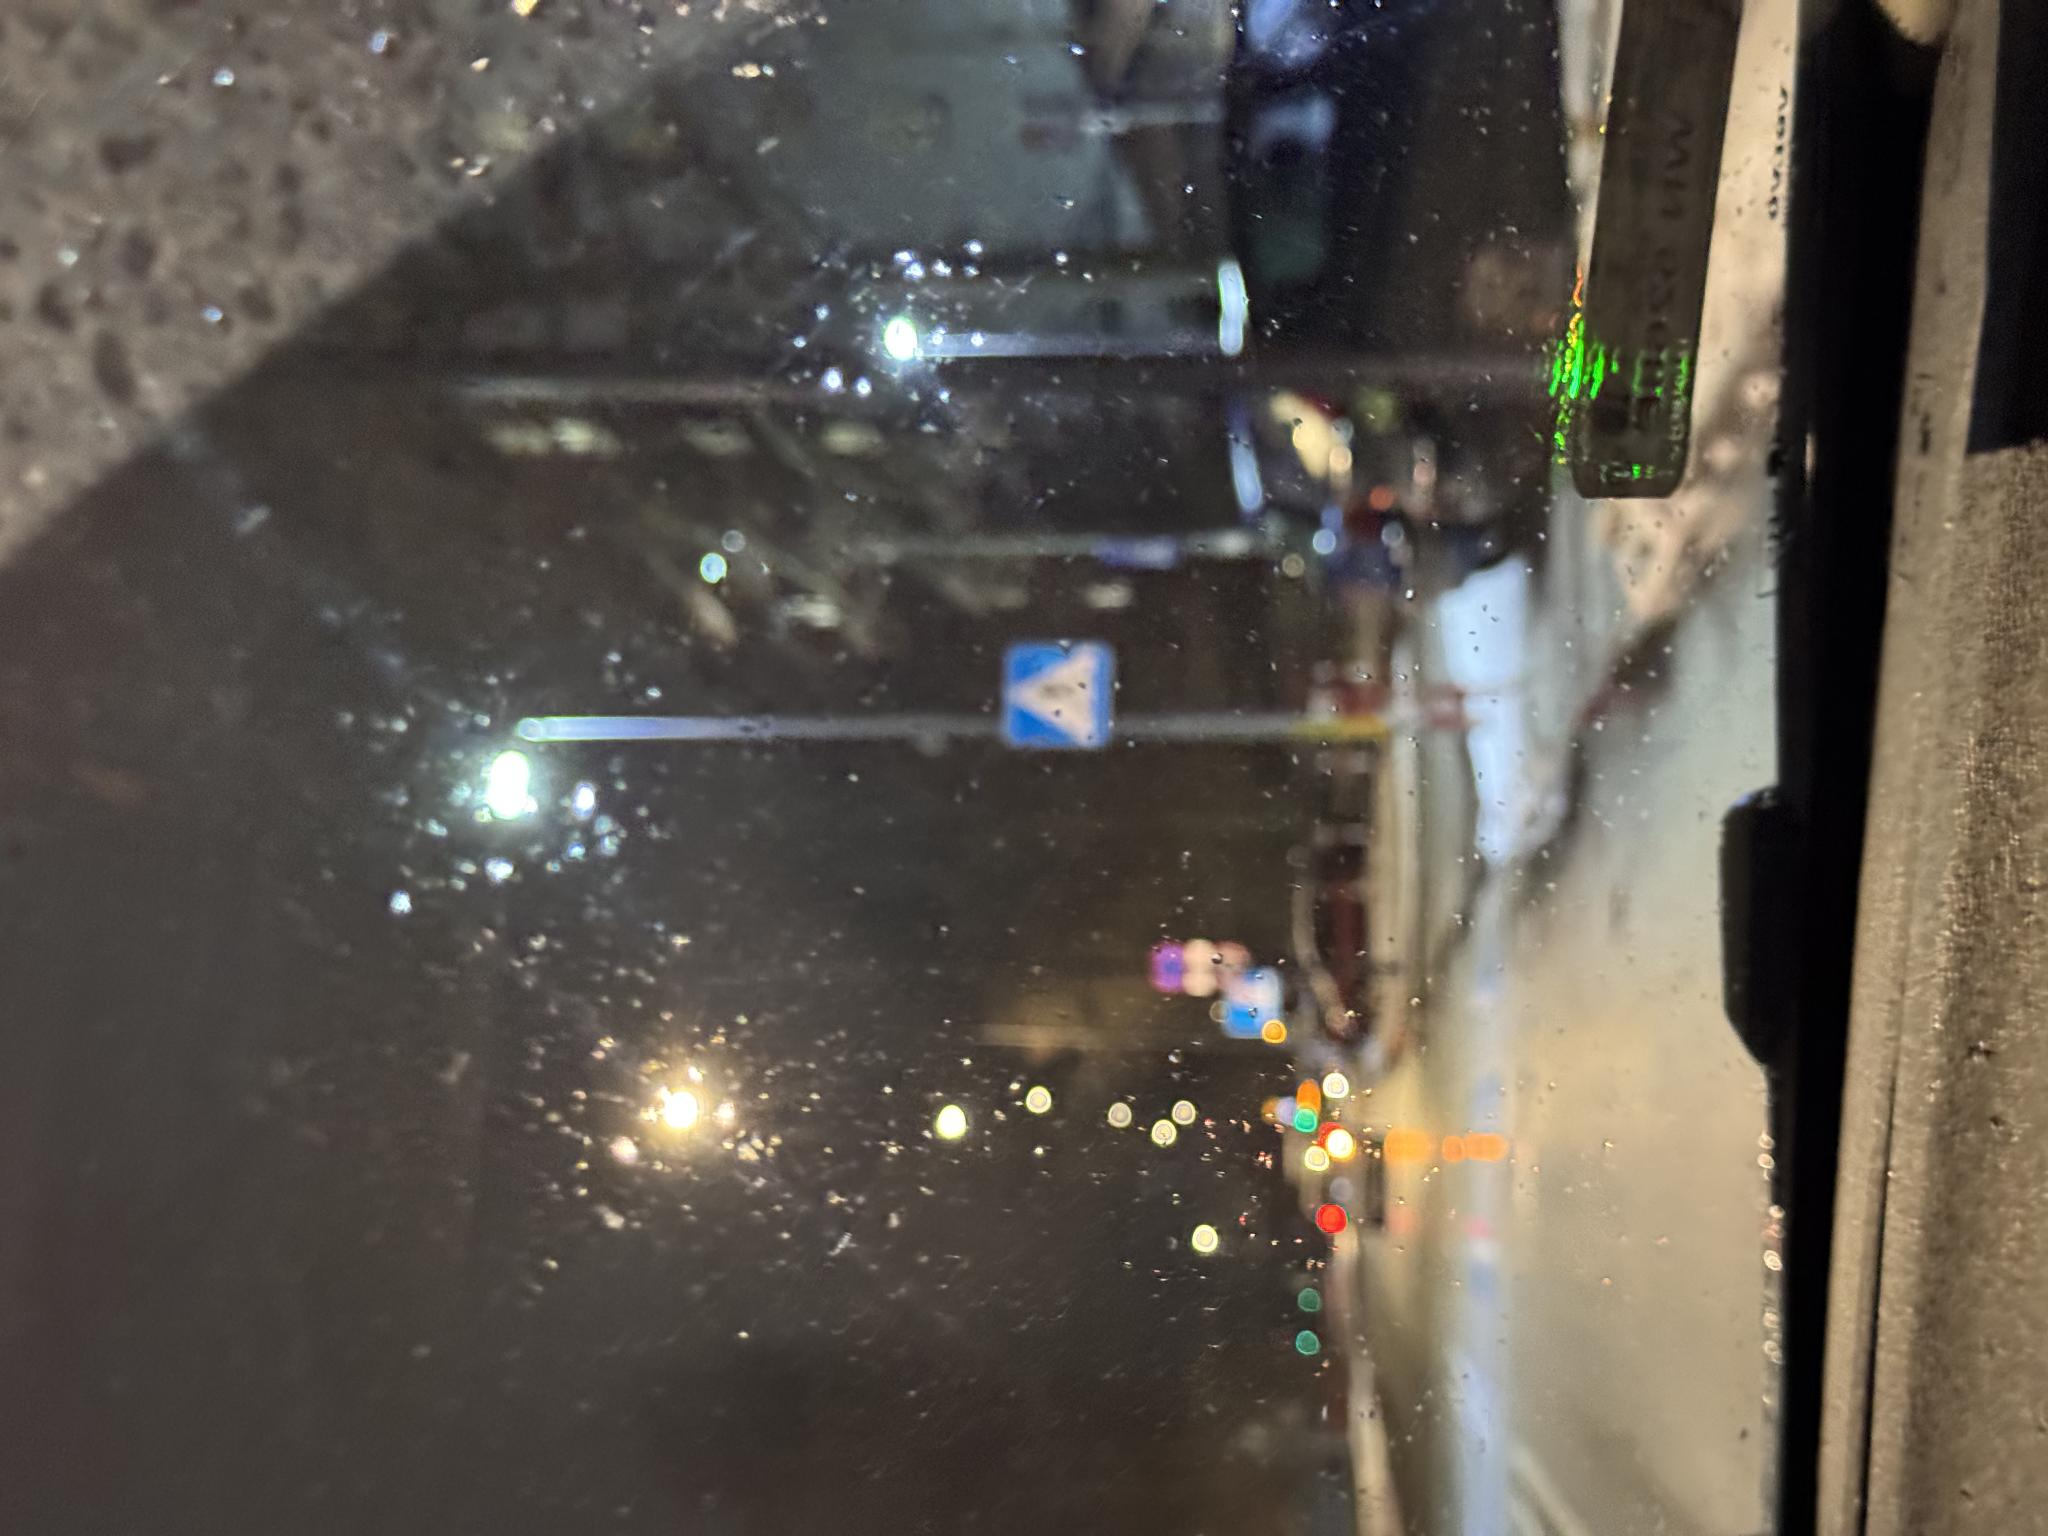information: (788, 1004, 898, 1114)
